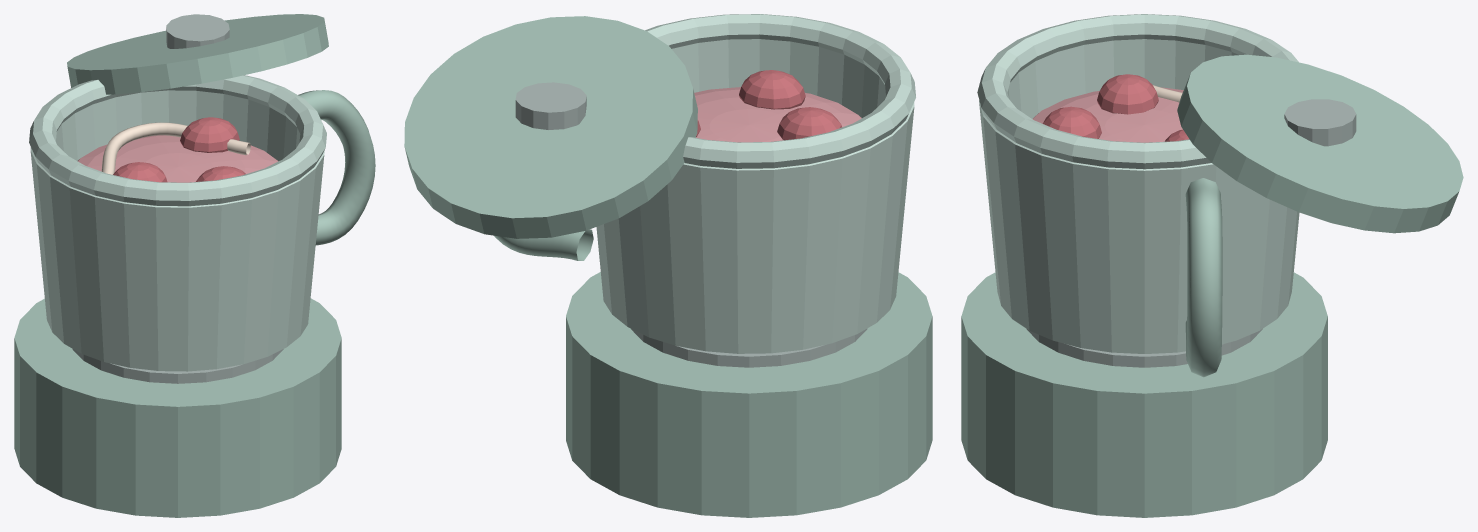
The model's file is blended_fruit_ice.glb.
3 renders of one model, left to right at view 1: azimuth 30°, elevation 25°; view 2: azimuth 150°, elevation 25°; view 3: azimuth 270°, elevation 25°, orthographic. The views are drawn at different scales.
Parts seen in each view (by area): view 1: frosted_blender_jar_profile, small_blender_motor, glass_jar_rolled_lip, blender_lid_propped_on_edge, rounded_blender_handle, fluffy_pink_surface, blender_steel_socket, lid_grip, yogurt_swirl_in_blender, strawberry_chunk_1, strawberry_chunk_0, strawberry_chunk_2; view 2: frosted_blender_jar_profile, small_blender_motor, blender_lid_propped_on_edge, glass_jar_rolled_lip, fluffy_pink_surface, lid_grip, blender_steel_socket, strawberry_chunk_2, rounded_blender_handle, strawberry_chunk_0; view 3: small_blender_motor, frosted_blender_jar_profile, blender_lid_propped_on_edge, glass_jar_rolled_lip, rounded_blender_handle, fluffy_pink_surface, lid_grip, blender_steel_socket, strawberry_chunk_0, strawberry_chunk_2.
Boxes of the visible parts, x1,y1,x2,y2 form: frosted_blender_jar_profile: (30,90,324,371); small_blender_motor: (14,298,341,517); glass_jar_rolled_lip: (29,75,326,206); blender_lid_propped_on_edge: (67,14,328,94); rounded_blender_handle: (298,90,375,245); fluffy_pink_surface: (77,135,278,182); blender_steel_socket: (72,349,283,383); lid_grip: (166,14,229,48); yogurt_swirl_in_blender: (101,122,250,174); strawberry_chunk_1: (180,117,239,152); strawberry_chunk_0: (113,162,167,182); strawberry_chunk_2: (196,166,245,181); frosted_blender_jar_profile: (596,39,914,353); small_blender_motor: (566,272,932,517); blender_lid_propped_on_edge: (404,16,697,238); glass_jar_rolled_lip: (645,14,915,168); fluffy_pink_surface: (694,87,861,142); lid_grip: (515,82,586,129); blender_steel_socket: (631,328,867,367); strawberry_chunk_2: (739,70,805,109); rounded_blender_handle: (494,229,593,260); strawberry_chunk_0: (777,107,841,140); small_blender_motor: (961,272,1327,517); frosted_blender_jar_profile: (979,39,1299,353); blender_lid_propped_on_edge: (1177,54,1463,233); glass_jar_rolled_lip: (977,14,1298,169); rounded_blender_handle: (1185,178,1222,377); fluffy_pink_surface: (1032,87,1183,142); lid_grip: (1284,99,1356,146); blender_steel_socket: (1026,329,1262,367); strawberry_chunk_0: (1097,74,1158,114); strawberry_chunk_2: (1042,106,1101,138).
Size of the model in its own units: 0.5632 by 0.5383 by 0.6002.
